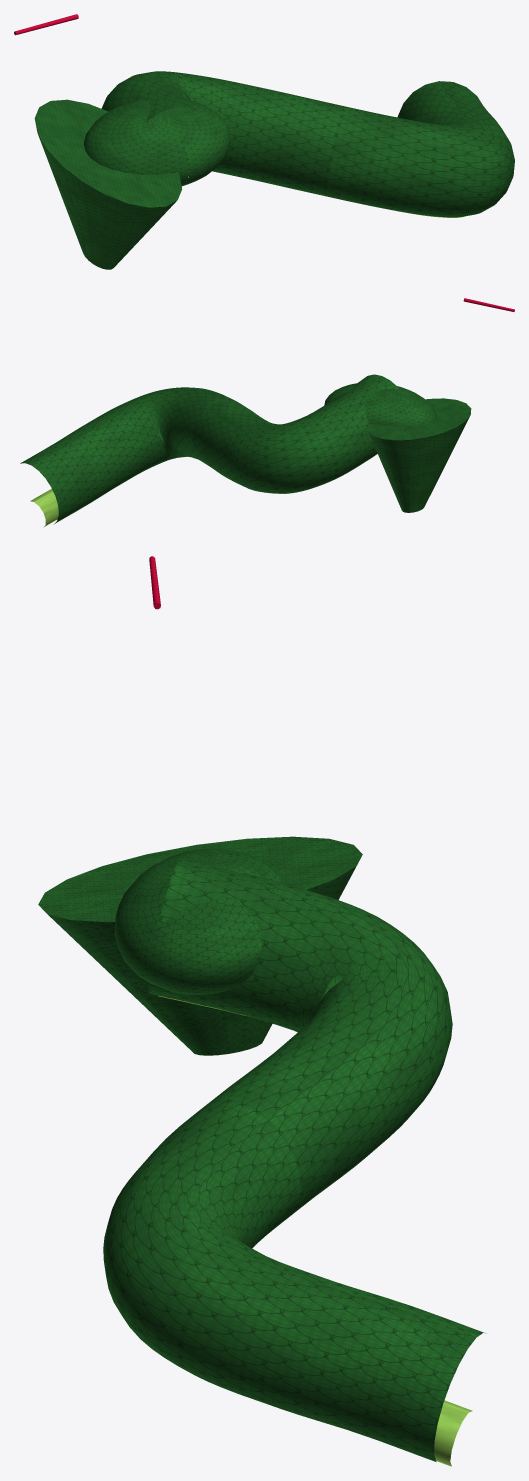
The model's file is cobra_venenosa.glb.
3 views of the same model, one above another, from view 1: azimuth 30°, elevation 25°; view 2: azimuth 150°, elevation 25°; view 3: azimuth 270°, elevation 25° (orthographic). The views are drawn at different scales.
Parts seen in each view (by area): view 1: body, head; view 2: body, head; view 3: body, head.
Boxes of the visible parts, bbox=[...] form: body: bbox=[101, 71, 514, 217]; head: bbox=[14, 14, 230, 269]; body: bbox=[20, 374, 399, 527]; head: bbox=[324, 298, 514, 512]; body: bbox=[103, 859, 485, 1466]; head: bbox=[38, 556, 362, 1055].
Bounding box in the file's own units: 3.07 × 1.78 × 1.41.
11 materials, 2 textured.
